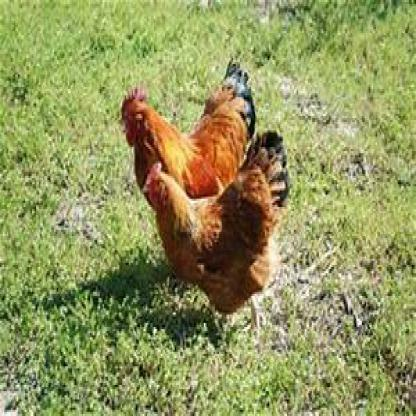chicken: (141, 130, 290, 329), (121, 62, 256, 193)
